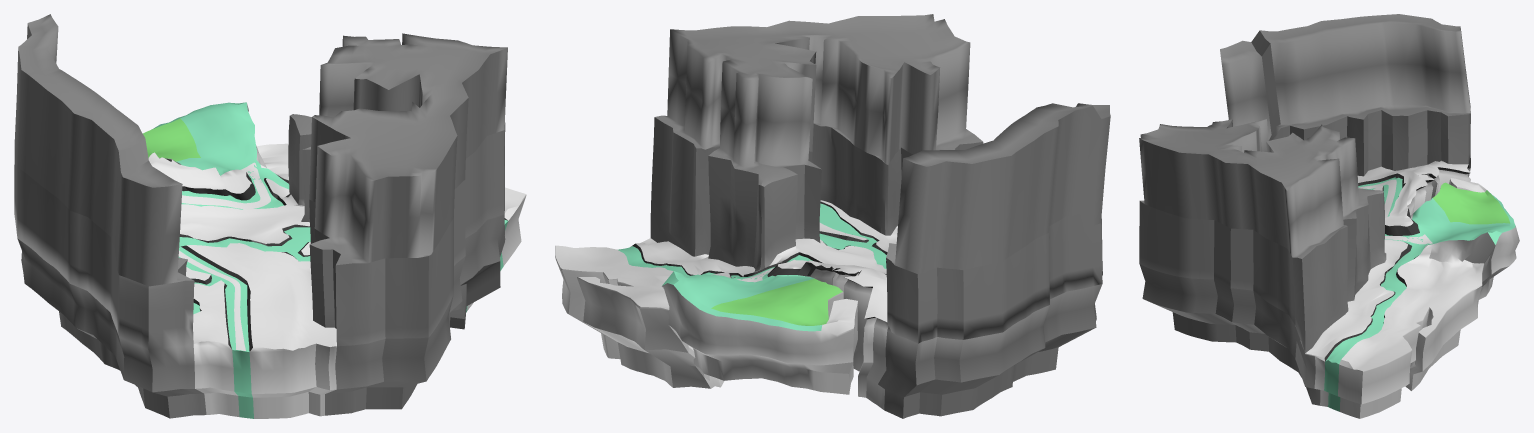
Rendered from introislandwithdesignatedgrassfield.fbx.
3 renders of one model, left to right at view 1: azimuth 30°, elevation 25°; view 2: azimuth 150°, elevation 25°; view 3: azimuth 270°, elevation 25°, orthographic. The views are drawn at different scales.
Parts seen in each view (by area): view 1: IntroIsland, Path01; view 2: IntroIsland; view 3: IntroIsland, Path01.
Part boxes in pixels (x1,y1,x2,y2): IntroIsland: [14, 14, 526, 418]; Path01: [178, 162, 270, 350]; IntroIsland: [555, 14, 1110, 418]; IntroIsland: [1139, 14, 1519, 418]; Path01: [1358, 179, 1432, 244].
Size of the model in its own units: 66409 by 42621 by 58468.
